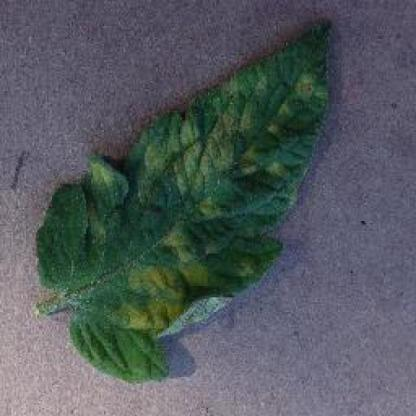Tomato_Leaf_Mold: (37, 19, 332, 330)
